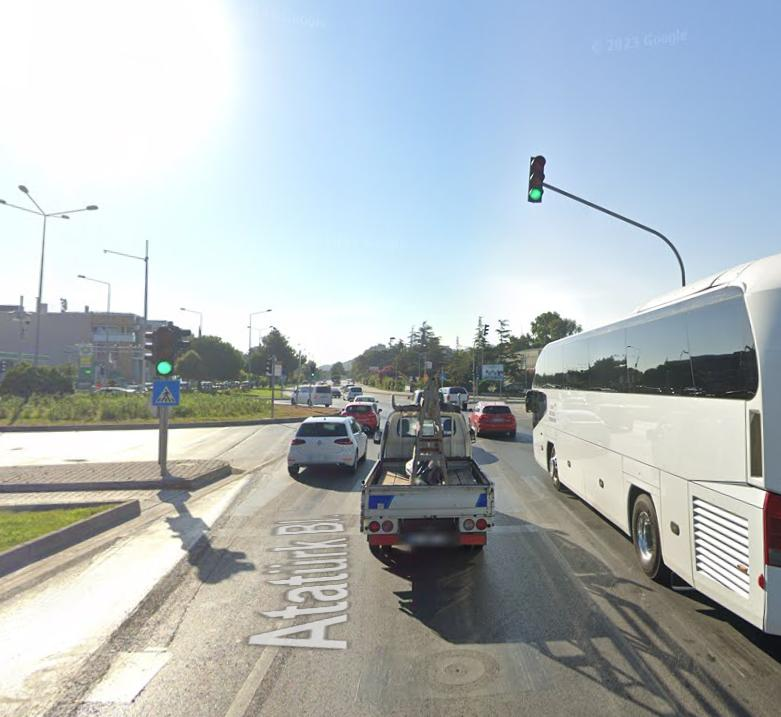greenlight: (152, 330, 176, 375), (530, 152, 547, 205)
